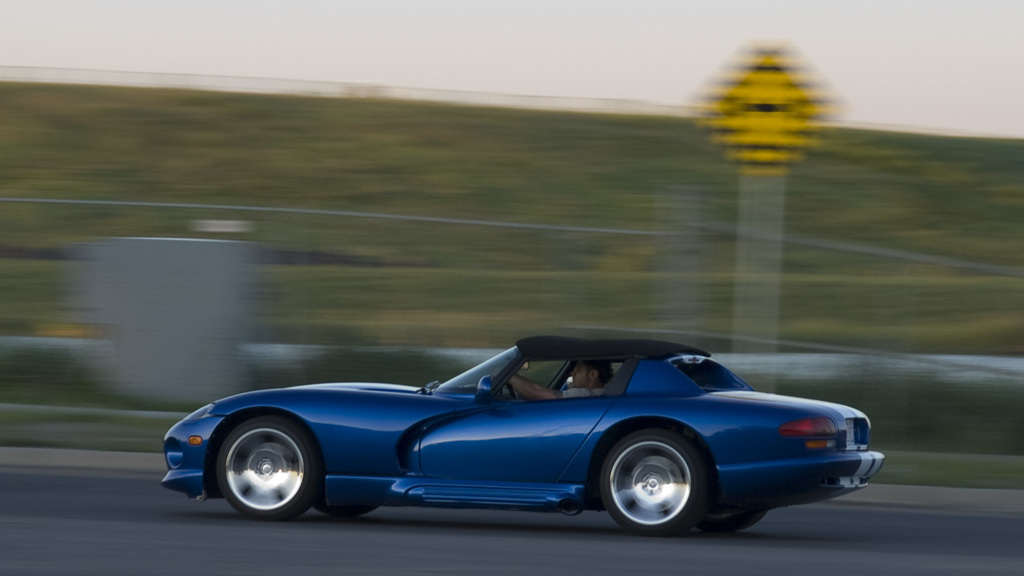person: (502, 359, 611, 399)
